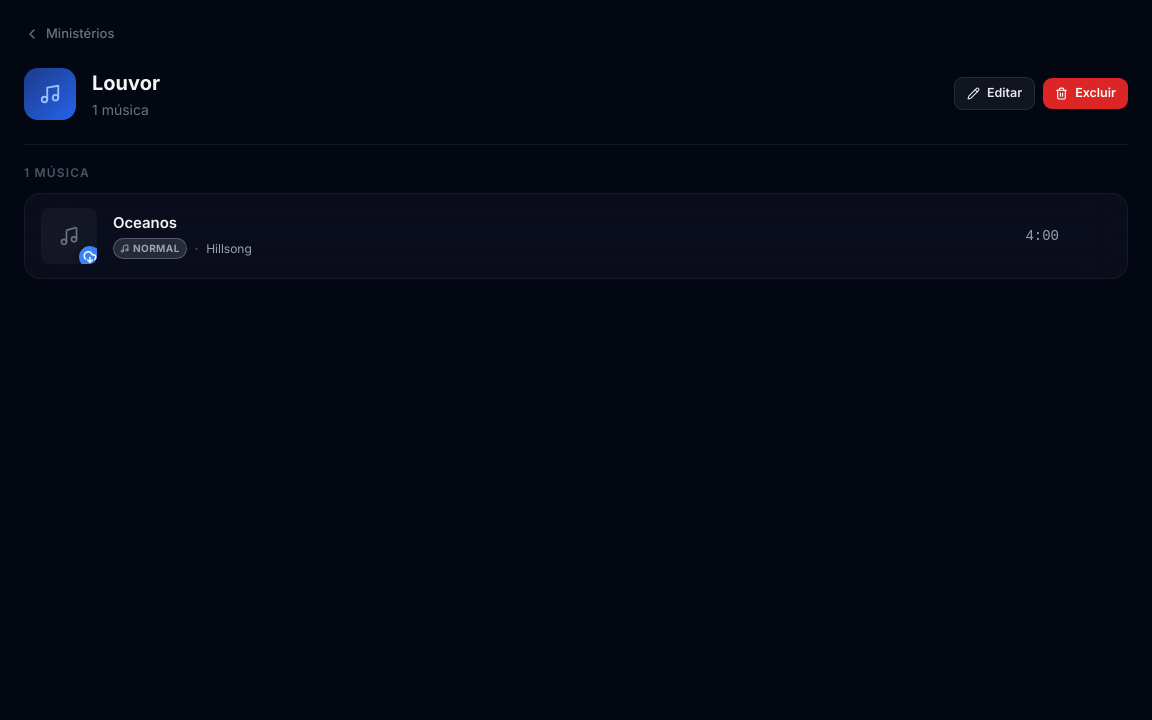
GroupDetail › botão Excluir abre modal de confirmação
Expected: the heading "Louvor" is shown, [92,70,160,94]
Click the button "Excluir": (1086, 94) [1043,78,1128,109]
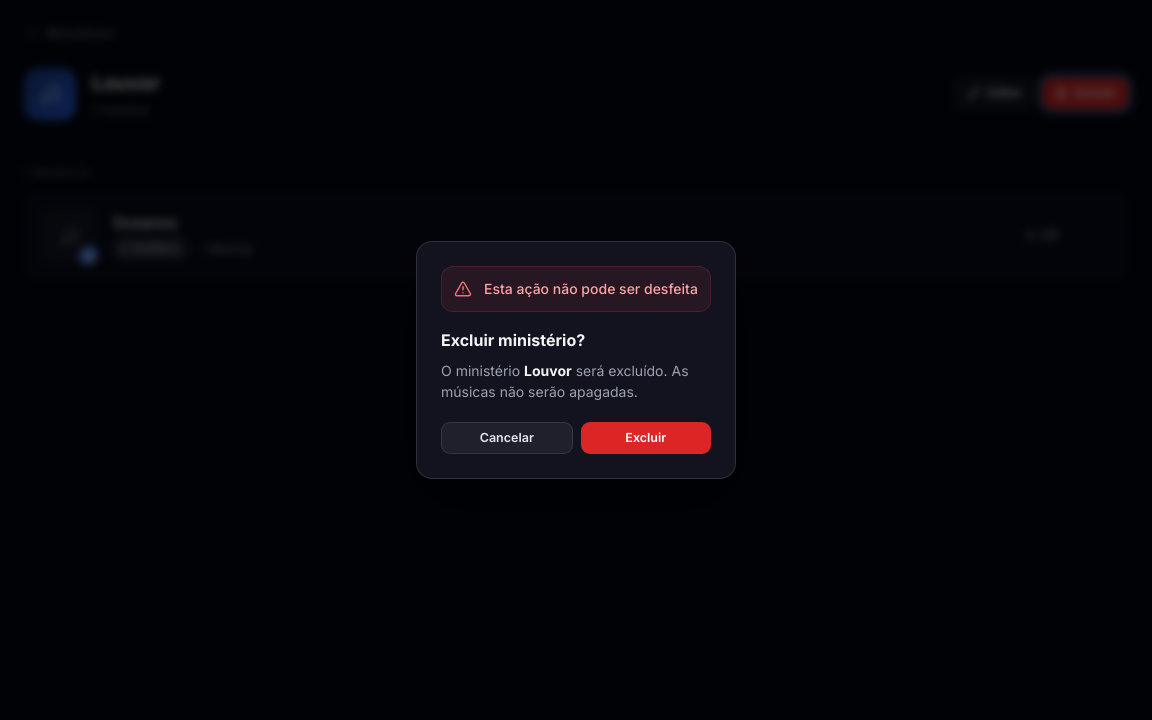
Result: the heading "Excluir ministério?" is shown at [441,330,585,350]
Result: the text "Esta ação não pode ser desfeita" is shown at [484,279,698,299]
